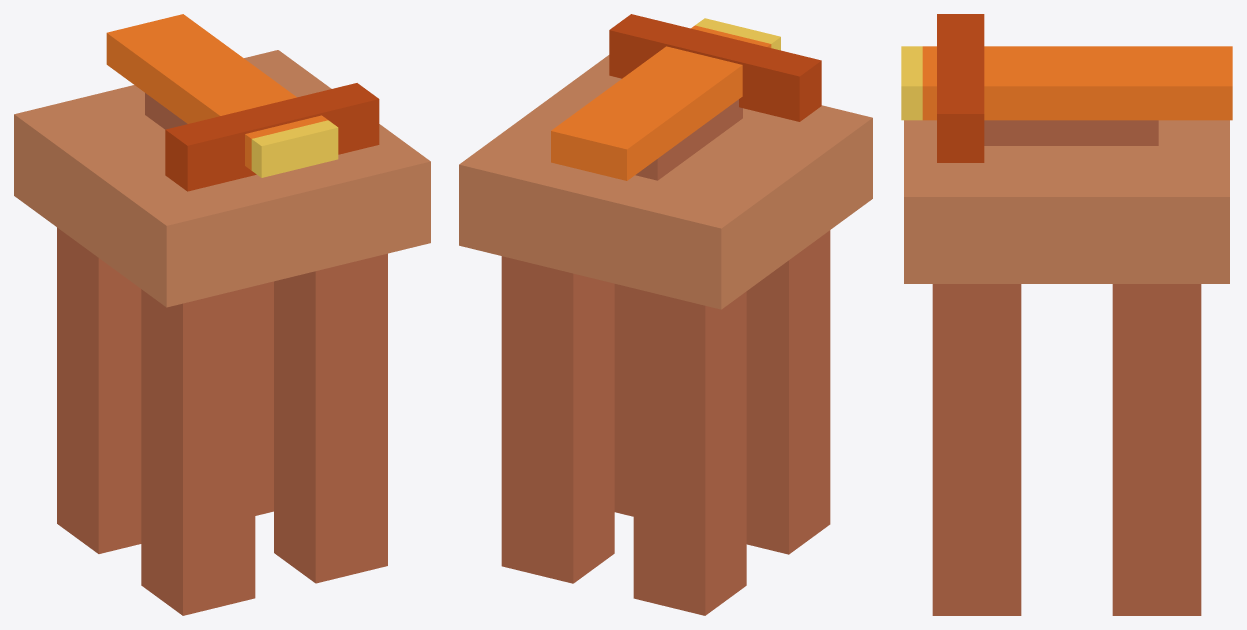
Rendered from placeHolderBallista.glb.
3 views of the same model, side by side, from view 1: azimuth 30°, elevation 25°; view 2: azimuth 150°, elevation 25°; view 3: azimuth 270°, elevation 25° (orthographic). The views are drawn at different scales.
Parts seen in each view (by area): view 1: Cube, Cube.001, Cube.004, Cube.003, Cube.002; view 2: Cube, Cube.001, Cube.004, Cube.003, Cube.002; view 3: Cube, Cube.001, Cube.004, Cube.003, Cube.002.
Boxes of the visible parts, x1,y1,x2,y2 form: Cube: (57, 227, 387, 615); Cube.001: (14, 50, 430, 307); Cube.004: (106, 14, 338, 177); Cube.003: (165, 83, 379, 191); Cube.002: (145, 93, 187, 129); Cube: (501, 230, 830, 615); Cube.001: (459, 55, 872, 309); Cube.004: (551, 18, 780, 180); Cube.003: (609, 14, 821, 121); Cube.002: (635, 99, 742, 180); Cube: (932, 284, 1201, 615); Cube.001: (904, 120, 1229, 283); Cube.004: (901, 46, 1232, 120); Cube.003: (937, 14, 984, 162); Cube.002: (984, 120, 1158, 145).
Size of the model in its own units: 1.13 by 1.91 by 1.15.
1 material, 1 textured.
